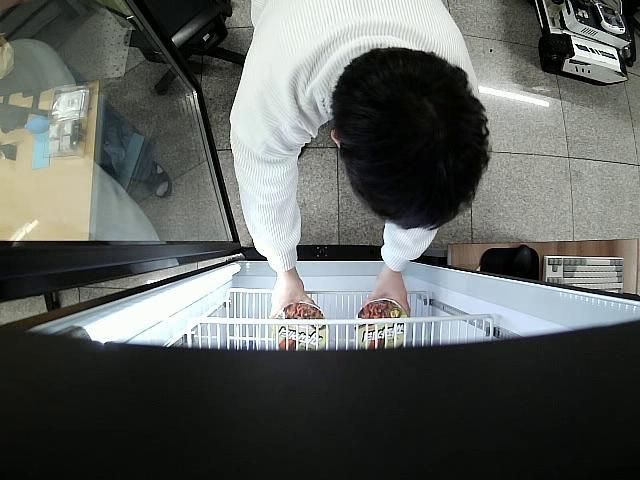03_chapagetti_L: (272, 304, 330, 354), (354, 300, 408, 350)
